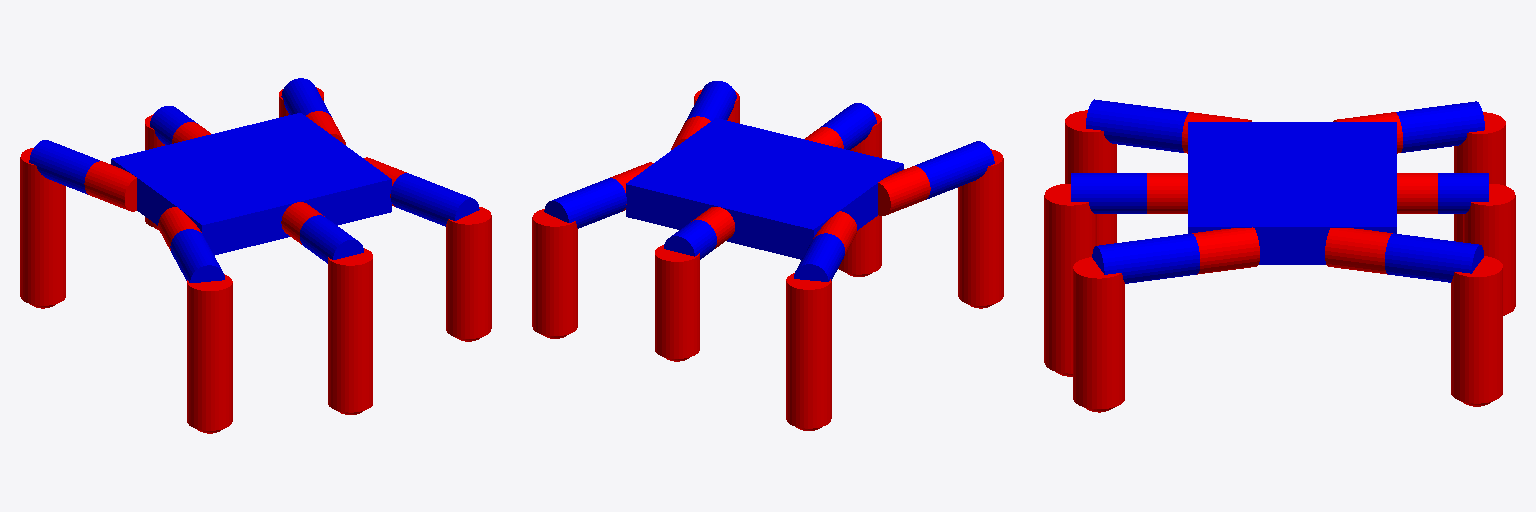
--- What the picture shows (computed from the rendered views, not written in the file) ---
The picture shows the robot from 3 angles, left to right: view 1: azimuth 30°, elevation 25°; view 2: azimuth 150°, elevation 25°; view 3: azimuth 270°, elevation 25°; orthographic projection.
Robot: pexod — 19 links, 18 joints (18 revolute); root link base_link; default pose: all joints at 0.
Visible links, largest first — view 1: base_link, leg_4_3, leg_5_3, leg_0_3, leg_3_3, leg_3_2, leg_0_2, leg_5_2, leg_0_1, leg_4_2, leg_2_2, leg_1_2 (+2 smaller); view 2: base_link, leg_0_3, leg_5_3, leg_2_3, leg_1_3, leg_2_2, leg_5_2, leg_4_3, leg_5_1, leg_0_2, leg_4_2, leg_1_2 (+3 smaller); view 3: base_link, leg_3_3, leg_2_3, leg_4_3, leg_3_2, leg_5_2, leg_1_3, leg_2_2, leg_0_2, leg_5_3, leg_4_2, leg_0_3 (+7 smaller).
Link boxes in pixels (left/top/right/bottom): base_link: left=111, top=113, right=391, bottom=255; leg_4_3: left=328, top=248, right=372, bottom=414; leg_5_3: left=187, top=274, right=232, bottom=433; leg_0_3: left=20, top=148, right=65, bottom=308; leg_3_3: left=446, top=207, right=491, bottom=341; leg_3_2: left=391, top=173, right=479, bottom=226; leg_0_2: left=29, top=140, right=99, bottom=194; leg_5_2: left=170, top=229, right=224, bottom=282; leg_0_1: left=84, top=161, right=136, bottom=211; leg_4_2: left=300, top=215, right=363, bottom=263; leg_2_2: left=281, top=78, right=331, bottom=116; leg_1_2: left=150, top=106, right=197, bottom=144; base_link: left=626, top=118, right=903, bottom=259; leg_0_3: left=786, top=273, right=831, bottom=430; leg_5_3: left=958, top=149, right=1003, bottom=308; leg_2_3: left=532, top=209, right=577, bottom=338; leg_1_3: left=655, top=245, right=699, bottom=361; leg_2_2: left=544, top=178, right=626, bottom=228; leg_5_2: left=915, top=141, right=994, bottom=199; leg_4_3: left=838, top=112, right=881, bottom=276; leg_5_1: left=878, top=166, right=930, bottom=215; leg_0_2: left=794, top=233, right=844, bottom=281; leg_4_2: left=820, top=103, right=876, bottom=149; leg_1_2: left=664, top=220, right=716, bottom=259; base_link: left=1188, top=122, right=1396, bottom=264; leg_3_3: left=1073, top=257, right=1124, bottom=412; leg_2_3: left=1451, top=256, right=1502, bottom=406; leg_4_3: left=1044, top=184, right=1096, bottom=376; leg_3_2: left=1092, top=233, right=1199, bottom=283; leg_5_2: left=1086, top=99, right=1188, bottom=152; leg_1_3: left=1463, top=184, right=1515, bottom=315; leg_2_2: left=1385, top=233, right=1483, bottom=282; leg_0_2: left=1396, top=101, right=1484, bottom=152; leg_5_3: left=1065, top=110, right=1116, bottom=245; leg_4_2: left=1071, top=173, right=1146, bottom=213; leg_0_3: left=1454, top=112, right=1505, bottom=241.
Size in the robot's own frame: 0.3822 by 0.4521 by 0.2104 metres.
Geometry: primitives only (box / cylinder / sphere), no mesh files.

URDF robot description (pexod):
<?xml version="1.0" ?>
<!-- =================================================================================== -->
<!-- |    This document was autogenerated by xacro from pexod.xacro                    | -->
<!-- |    EDITING THIS FILE BY HAND IS NOT RECOMMENDED                                 | -->
<!-- =================================================================================== -->
<robot name="pexod" xmlns:xacro="http://www.ros.org/wiki/xacro">
  <!-- <xacro:include filename="$(find pexod_description)/urdf/pexod_control.xacro" /> -->
  <!-- MATERIALS -->
  <material name="Blue">
    <color rgba="0 0 1 1"/>
  </material>
  <material name="Red">
    <color rgba="1 0 0 1"/>
  </material>
  <material name="Green">
    <color rgba="0 1 0 1"/>
  </material>
  <material name="Yellow">
    <color rgba="1 1 0 1"/>
  </material>
  <material name="LightGrey">
    <color rgba="0.6 0.6 0.6 1.0"/>
  </material>
  <!-- END OF MATERIALS -->
  <!-- XACRO MACROS FOR VISUALS AND COLLISIONS -->
  <!-- END OF XACRO MACROS -->
  <!-- TORSO -->
  <link name="base_link">
    <visual>
      <origin rpy="0 0 0" xyz="0 0 0"/>
      <geometry>
        <box size="0.24 0.2 0.04"/>
      </geometry>
      <material name="Blue"/>
    </visual>
    <collision>
      <origin rpy="0 0 0" xyz="0 0 0"/>
      <geometry>
        <box size="0.24 0.2 0.04"/>
      </geometry>
    </collision>
    <inertial>
      <!-- CENTER OF MASS -->
      <origin rpy="0 0 0" xyz="0 0 0"/>
      <mass value="1.031"/>
      <!-- box inertia: 1/12*m(y^2+z^2), ... -->
      <inertia ixx="0.00357413333333" ixy="0" ixz="0" iyy="0.00508626666667" iyz="0" izz="0.00838546666667"/>
    </inertial>
  </link>
  <!-- XACRO MACRO FOR LEGS LINKS/JOINTS -->
  <!-- END OF LEG LINKS/JOINTS -->
  <joint name="body_leg_2" type="revolute">
    <parent link="base_link"/>
    <child link="leg_2_1"/>
    <limit effort="30.0" lower="-1.57079632679" upper="1.57079632679" velocity="7.0"/>
    <origin rpy="0 0 -0.3" xyz="0.11 0.04 0"/>
    <!-- <xacro:if value="${index == 5 or index == 4 or index == 3}">
                <axis xyz="0 0 1"/>
            </xacro:if>
            <xacro:if value="${index == 2 or index == 1 or index == 0}"> -->
    <axis xyz="0 0 1"/>
    <!-- </xacro:if> -->
    <dynamics damping="0.0"/>
  </joint>
  <link name="leg_2_1">
    <visual>
      <origin rpy="1.57079632679 0 0" xyz="0.01 0.03 0"/>
      <geometry>
        <cylinder length="0.06" radius="0.02"/>
      </geometry>
      <material name="Red"/>
    </visual>
    <collision>
      <origin rpy="1.57079632679 0 0" xyz="0.01 0.03 0"/>
      <geometry>
        <box size="0.02 0.02 0.06"/>
      </geometry>
    </collision>
    <inertial>
      <!-- CENTER OF MASS -->
      <origin rpy="1.57079632679 0 0" xyz="0.01 0.03 0"/>
      <mass value="0.02"/>
      <!-- box inertia: 1/12*m(y^2+z^2), ... -->
      <inertia ixx="6.66666666667e-06" ixy="0" ixz="0" iyy="6.66666666667e-06" iyz="0" izz="1.33333333333e-06"/>
    </inertial>
  </link>
  <joint name="leg_2_1_2" type="revolute">
    <parent link="leg_2_1"/>
    <child link="leg_2_2"/>
    <limit effort="30.0" lower="-0.78539816339" upper="0.78539816339" velocity="7.0"/>
    <origin rpy="0 0 0" xyz="0 0.06 0"/>
    <axis xyz="1 0 0"/>
    <dynamics damping="0.0"/>
  </joint>
  <link name="leg_2_2">
    <visual>
      <origin rpy="1.57079632679 0 0" xyz="0.01 0.0436594370788 0"/>
      <geometry>
        <cylinder length="0.0873188741576" radius="0.02"/>
      </geometry>
      <material name="Blue"/>
    </visual>
    <collision>
      <origin rpy="1.57079632679 0 0" xyz="0.01 0.0436594370788 0"/>
      <geometry>
        <box size="0.02 0.02 0.0873188741576"/>
      </geometry>
    </collision>
    <inertial>
      <!-- CENTER OF MASS -->
      <origin rpy="1.57079632679 0 0" xyz="0.01 0.0436594370788 0"/>
      <mass value="0.184"/>
      <!-- box inertia: 1/12*m(y^2+z^2), ... -->
      <inertia ixx="0.00012304364869" ixy="0" ixz="0" iyy="0.00012304364869" iyz="0" izz="1.22666666667e-05"/>
    </inertial>
  </link>
  <joint name="leg_2_2_3" type="revolute">
    <parent link="leg_2_2"/>
    <child link="leg_2_3"/>
    <limit effort="30.0" lower="-0.78539816339" upper="0.78539816339" velocity="7.0"/>
    <origin rpy="-1.57079632679 0 0" xyz="0 0.0873188741576 0"/>
    <axis xyz="-1 0 0"/>
    <dynamics damping="0.0"/>
  </joint>
  <link name="leg_2_3">
    <visual>
      <origin rpy="1.57079632679 0 0" xyz="0.0125 0.066842162869 0"/>
      <geometry>
        <cylinder length="0.133684325738" radius="0.025"/>
      </geometry>
      <material name="Red"/>
    </visual>
    <visual>
      <origin rpy="1.57079632679 0 0" xyz="0.0125 0.121184325738 0"/>
      <geometry>
        <sphere radius="0.025"/>
      </geometry>
      <material name="Red"/>
    </visual>
    <collision>
      <origin rpy="1.57079632679 0 0" xyz="0.0125 0.066842162869 0"/>
      <geometry>
        <box size="0.025 0.025 0.133684325738"/>
      </geometry>
    </collision>
    <collision>
      <origin rpy="1.57079632679 0 0" xyz="0.0125 0.121184325738 0"/>
      <geometry>
        <sphere radius="0.025"/>
      </geometry>
      <material name="Red"/>
    </collision>
    <inertial>
      <!-- CENTER OF MASS -->
      <origin rpy="1.57079632679 0 0" xyz="0.0125 0.066842162869 0"/>
      <mass value="0.04"/>
      <!-- box inertia: 1/12*m(y^2+z^2), ... -->
      <inertia ixx="6.16549964934e-05" ixy="0" ixz="0" iyy="6.16549964934e-05" iyz="0" izz="4.16666666667e-06"/>
    </inertial>
  </link>
  <joint name="body_leg_3" type="revolute">
    <parent link="base_link"/>
    <child link="leg_3_1"/>
    <limit effort="30.0" lower="-1.57079632679" upper="1.57079632679" velocity="7.0"/>
    <origin rpy="0 0 0.3" xyz="0.11 -0.04 0"/>
    <!-- <xacro:if value="${index == 5 or index == 4 or index == 3}">
                <axis xyz="0 0 1"/>
            </xacro:if>
            <xacro:if value="${index == 2 or index == 1 or index == 0}"> -->
    <axis xyz="0 0 1"/>
    <!-- </xacro:if> -->
    <dynamics damping="0.0"/>
  </joint>
  <link name="leg_3_1">
    <visual>
      <origin rpy="1.57079632679 0 0" xyz="0.01 -0.03 0"/>
      <geometry>
        <cylinder length="0.06" radius="0.02"/>
      </geometry>
      <material name="Red"/>
    </visual>
    <collision>
      <origin rpy="1.57079632679 0 0" xyz="0.01 -0.03 0"/>
      <geometry>
        <box size="0.02 0.02 0.06"/>
      </geometry>
    </collision>
    <inertial>
      <!-- CENTER OF MASS -->
      <origin rpy="1.57079632679 0 0" xyz="0.01 -0.03 0"/>
      <mass value="0.02"/>
      <!-- box inertia: 1/12*m(y^2+z^2), ... -->
      <inertia ixx="6.66666666667e-06" ixy="0" ixz="0" iyy="6.66666666667e-06" iyz="0" izz="1.33333333333e-06"/>
    </inertial>
  </link>
  <joint name="leg_3_1_2" type="revolute">
    <parent link="leg_3_1"/>
    <child link="leg_3_2"/>
    <limit effort="30.0" lower="-0.78539816339" upper="0.78539816339" velocity="7.0"/>
    <origin rpy="0 0 0" xyz="0 -0.06 0"/>
    <axis xyz="-1 0 0"/>
    <dynamics damping="0.0"/>
  </joint>
  <link name="leg_3_2">
    <visual>
      <origin rpy="1.57079632679 0 0" xyz="0.01 -0.0480970000703 0"/>
      <geometry>
        <cylinder length="0.0961940001406" radius="0.02"/>
      </geometry>
      <material name="Blue"/>
    </visual>
    <collision>
      <origin rpy="1.57079632679 0 0" xyz="0.01 -0.0480970000703 0"/>
      <geometry>
        <box size="0.02 0.02 0.0961940001406"/>
      </geometry>
    </collision>
    <inertial>
      <!-- CENTER OF MASS -->
      <origin rpy="1.57079632679 0 0" xyz="0.01 -0.0480970000703 0"/>
      <mass value="0.184"/>
      <!-- box inertia: 1/12*m(y^2+z^2), ... -->
      <inertia ixx="0.000148017046833" ixy="0" ixz="0" iyy="0.000148017046833" iyz="0" izz="1.22666666667e-05"/>
    </inertial>
  </link>
  <joint name="leg_3_2_3" type="revolute">
    <parent link="leg_3_2"/>
    <child link="leg_3_3"/>
    <limit effort="30.0" lower="-0.78539816339" upper="0.78539816339" velocity="7.0"/>
    <origin rpy="1.57079632679 0 0" xyz="0 -0.0961940001406 0"/>
    <axis xyz="1 0 0"/>
    <dynamics damping="0.0"/>
  </joint>
  <link name="leg_3_3">
    <visual>
      <origin rpy="1.57079632679 0 0" xyz="0.0125 -0.069245912399 0"/>
      <geometry>
        <cylinder length="0.138491824798" radius="0.025"/>
      </geometry>
      <material name="Red"/>
    </visual>
    <visual>
      <origin rpy="1.57079632679 0 0" xyz="0.0125 -0.125991824798 0"/>
      <geometry>
        <sphere radius="0.025"/>
      </geometry>
      <material name="Red"/>
    </visual>
    <collision>
      <origin rpy="1.57079632679 0 0" xyz="0.0125 -0.069245912399 0"/>
      <geometry>
        <box size="0.025 0.025 0.138491824798"/>
      </geometry>
    </collision>
    <collision>
      <origin rpy="1.57079632679 0 0" xyz="0.0125 -0.125991824798 0"/>
      <geometry>
        <sphere radius="0.025"/>
      </geometry>
      <material name="Red"/>
    </collision>
    <inertial>
      <!-- CENTER OF MASS -->
      <origin rpy="1.57079632679 0 0" xyz="0.0125 -0.069245912399 0"/>
      <mass value="0.04"/>
      <!-- box inertia: 1/12*m(y^2+z^2), ... -->
      <inertia ixx="6.60166184529e-05" ixy="0" ixz="0" iyy="6.60166184529e-05" iyz="0" izz="4.16666666667e-06"/>
    </inertial>
  </link>
  <joint name="body_leg_0" type="revolute">
    <parent link="base_link"/>
    <child link="leg_0_1"/>
    <limit effort="30.0" lower="-1.57079632679" upper="1.57079632679" velocity="7.0"/>
    <origin rpy="0 0 0.3" xyz="-0.13 0.04 0"/>
    <!-- <xacro:if value="${index == 5 or index == 4 or index == 3}">
                <axis xyz="0 0 1"/>
            </xacro:if>
            <xacro:if value="${index == 2 or index == 1 or index == 0}"> -->
    <axis xyz="0 0 1"/>
    <!-- </xacro:if> -->
    <dynamics damping="0.0"/>
  </joint>
  <link name="leg_0_1">
    <visual>
      <origin rpy="1.57079632679 0 0" xyz="0.01 0.03 0"/>
      <geometry>
        <cylinder length="0.06" radius="0.02"/>
      </geometry>
      <material name="Red"/>
    </visual>
    <collision>
      <origin rpy="1.57079632679 0 0" xyz="0.01 0.03 0"/>
      <geometry>
        <box size="0.02 0.02 0.06"/>
      </geometry>
    </collision>
    <inertial>
      <!-- CENTER OF MASS -->
      <origin rpy="1.57079632679 0 0" xyz="0.01 0.03 0"/>
      <mass value="0.02"/>
      <!-- box inertia: 1/12*m(y^2+z^2), ... -->
      <inertia ixx="6.66666666667e-06" ixy="0" ixz="0" iyy="6.66666666667e-06" iyz="0" izz="1.33333333333e-06"/>
    </inertial>
  </link>
  <joint name="leg_0_1_2" type="revolute">
    <parent link="leg_0_1"/>
    <child link="leg_0_2"/>
    <limit effort="30.0" lower="-0.78539816339" upper="0.78539816339" velocity="7.0"/>
    <origin rpy="0 0 0" xyz="0 0.06 0"/>
    <axis xyz="1 0 0"/>
    <dynamics damping="0.0"/>
  </joint>
  <link name="leg_0_2">
    <visual>
      <origin rpy="1.57079632679 0 0" xyz="0.01 0.0412112210949 0"/>
      <geometry>
        <cylinder length="0.0824224421899" radius="0.02"/>
      </geometry>
      <material name="Blue"/>
    </visual>
    <collision>
      <origin rpy="1.57079632679 0 0" xyz="0.01 0.0412112210949 0"/>
      <geometry>
        <box size="0.02 0.02 0.0824224421899"/>
      </geometry>
    </collision>
    <inertial>
      <!-- CENTER OF MASS -->
      <origin rpy="1.57079632679 0 0" xyz="0.01 0.0412112210949 0"/>
      <mass value="0.184"/>
      <!-- box inertia: 1/12*m(y^2+z^2), ... -->
      <inertia ixx="0.000110299704307" ixy="0" ixz="0" iyy="0.000110299704307" iyz="0" izz="1.22666666667e-05"/>
    </inertial>
  </link>
  <joint name="leg_0_2_3" type="revolute">
    <parent link="leg_0_2"/>
    <child link="leg_0_3"/>
    <limit effort="30.0" lower="-0.78539816339" upper="0.78539816339" velocity="7.0"/>
    <origin rpy="-1.57079632679 0 0" xyz="0 0.0824224421899 0"/>
    <axis xyz="-1 0 0"/>
    <dynamics damping="0.0"/>
  </joint>
  <link name="leg_0_3">
    <visual>
      <origin rpy="1.57079632679 0 0" xyz="0.0125 0.084639465031 0"/>
      <geometry>
        <cylinder length="0.169278930062" radius="0.025"/>
      </geometry>
      <material name="Red"/>
    </visual>
    <visual>
      <origin rpy="1.57079632679 0 0" xyz="0.0125 0.156778930062 0"/>
      <geometry>
        <sphere radius="0.025"/>
      </geometry>
      <material name="Red"/>
    </visual>
    <collision>
      <origin rpy="1.57079632679 0 0" xyz="0.0125 0.084639465031 0"/>
      <geometry>
        <box size="0.025 0.025 0.169278930062"/>
      </geometry>
    </collision>
    <collision>
      <origin rpy="1.57079632679 0 0" xyz="0.0125 0.156778930062 0"/>
      <geometry>
        <sphere radius="0.025"/>
      </geometry>
      <material name="Red"/>
    </collision>
    <inertial>
      <!-- CENTER OF MASS -->
      <origin rpy="1.57079632679 0 0" xyz="0.0125 0.084639465031 0"/>
      <mass value="0.04"/>
      <!-- box inertia: 1/12*m(y^2+z^2), ... -->
      <inertia ixx="9.76011872098e-05" ixy="0" ixz="0" iyy="9.76011872098e-05" iyz="0" izz="4.16666666667e-06"/>
    </inertial>
  </link>
  <joint name="body_leg_5" type="revolute">
    <parent link="base_link"/>
    <child link="leg_5_1"/>
    <limit effort="30.0" lower="-1.57079632679" upper="1.57079632679" velocity="7.0"/>
    <origin rpy="0 0 -0.3" xyz="-0.13 -0.04 0"/>
    <!-- <xacro:if value="${index == 5 or index == 4 or index == 3}">
                <axis xyz="0 0 1"/>
            </xacro:if>
            <xacro:if value="${index == 2 or index == 1 or index == 0}"> -->
    <axis xyz="0 0 1"/>
    <!-- </xacro:if> -->
    <dynamics damping="0.0"/>
  </joint>
  <link name="leg_5_1">
    <visual>
      <origin rpy="1.57079632679 0 0" xyz="0.01 -0.03 0"/>
      <geometry>
        <cylinder length="0.06" radius="0.02"/>
      </geometry>
      <material name="Red"/>
    </visual>
    <collision>
      <origin rpy="1.57079632679 0 0" xyz="0.01 -0.03 0"/>
      <geometry>
        <box size="0.02 0.02 0.06"/>
      </geometry>
    </collision>
    <inertial>
      <!-- CENTER OF MASS -->
      <origin rpy="1.57079632679 0 0" xyz="0.01 -0.03 0"/>
      <mass value="0.02"/>
      <!-- box inertia: 1/12*m(y^2+z^2), ... -->
      <inertia ixx="6.66666666667e-06" ixy="0" ixz="0" iyy="6.66666666667e-06" iyz="0" izz="1.33333333333e-06"/>
    </inertial>
  </link>
  <joint name="leg_5_1_2" type="revolute">
    <parent link="leg_5_1"/>
    <child link="leg_5_2"/>
    <limit effort="30.0" lower="-0.78539816339" upper="0.78539816339" velocity="7.0"/>
    <origin rpy="0 0 0" xyz="0 -0.06 0"/>
    <axis xyz="-1 0 0"/>
    <dynamics damping="0.0"/>
  </joint>
  <link name="leg_5_2">
    <visual>
      <origin rpy="1.57079632679 0 0" xyz="0.01 -0.0483177649542 0"/>
      <geometry>
        <cylinder length="0.0966355299083" radius="0.02"/>
      </geometry>
      <material name="Blue"/>
    </visual>
    <collision>
      <origin rpy="1.57079632679 0 0" xyz="0.01 -0.0483177649542 0"/>
      <geometry>
        <box size="0.02 0.02 0.0966355299083"/>
      </geometry>
    </collision>
    <inertial>
      <!-- CENTER OF MASS -->
      <origin rpy="1.57079632679 0 0" xyz="0.01 -0.0483177649542 0"/>
      <mass value="0.184"/>
      <!-- box inertia: 1/12*m(y^2+z^2), ... -->
      <inertia ixx="0.00014932252649" ixy="0" ixz="0" iyy="0.00014932252649" iyz="0" izz="1.22666666667e-05"/>
    </inertial>
  </link>
  <joint name="leg_5_2_3" type="revolute">
    <parent link="leg_5_2"/>
    <child link="leg_5_3"/>
    <limit effort="30.0" lower="-0.78539816339" upper="0.78539816339" velocity="7.0"/>
    <origin rpy="1.57079632679 0 0" xyz="0 -0.0966355299083 0"/>
    <axis xyz="1 0 0"/>
    <dynamics damping="0.0"/>
  </joint>
  <link name="leg_5_3">
    <visual>
      <origin rpy="1.57079632679 0 0" xyz="0.0125 -0.0845588411455 0"/>
      <geometry>
        <cylinder length="0.169117682291" radius="0.025"/>
      </geometry>
      <material name="Red"/>
    </visual>
    <visual>
      <origin rpy="1.57079632679 0 0" xyz="0.0125 -0.156617682291 0"/>
      <geometry>
        <sphere radius="0.025"/>
      </geometry>
      <material name="Red"/>
    </visual>
    <collision>
      <origin rpy="1.57079632679 0 0" xyz="0.0125 -0.0845588411455 0"/>
      <geometry>
        <box size="0.025 0.025 0.169117682291"/>
      </geometry>
    </collision>
    <collision>
      <origin rpy="1.57079632679 0 0" xyz="0.0125 -0.156617682291 0"/>
      <geometry>
        <sphere radius="0.025"/>
      </geometry>
      <material name="Red"/>
    </collision>
    <inertial>
      <!-- CENTER OF MASS -->
      <origin rpy="1.57079632679 0 0" xyz="0.0125 -0.0845588411455 0"/>
      <mass value="0.04"/>
      <!-- box inertia: 1/12*m(y^2+z^2), ... -->
      <inertia ixx="9.74193015449e-05" ixy="0" ixz="0" iyy="9.74193015449e-05" iyz="0" izz="4.16666666667e-06"/>
    </inertial>
  </link>
  <joint name="body_leg_1" type="revolute">
    <parent link="base_link"/>
    <child link="leg_1_1"/>
    <limit effort="30.0" lower="-1.57079632679" upper="1.57079632679" velocity="7.0"/>
    <origin rpy="0 0 0" xyz="-0.01 0.08 0"/>
    <!-- <xacro:if value="${index == 5 or index == 4 or index == 3}">
                <axis xyz="0 0 1"/>
            </xacro:if>
            <xacro:if value="${index == 2 or index == 1 or index == 0}"> -->
    <axis xyz="0 0 1"/>
    <!-- </xacro:if> -->
    <dynamics damping="0.0"/>
  </joint>
  <link name="leg_1_1">
    <visual>
      <origin rpy="1.57079632679 0 0" xyz="0.01 0.03 0"/>
      <geometry>
        <cylinder length="0.06" radius="0.02"/>
      </geometry>
      <material name="Red"/>
    </visual>
    <collision>
      <origin rpy="1.57079632679 0 0" xyz="0.01 0.03 0"/>
      <geometry>
        <box size="0.02 0.02 0.06"/>
      </geometry>
    </collision>
    <inertial>
      <!-- CENTER OF MASS -->
      <origin rpy="1.57079632679 0 0" xyz="0.01 0.03 0"/>
      <mass value="0.02"/>
      <!-- box inertia: 1/12*m(y^2+z^2), ... -->
      <inertia ixx="6.66666666667e-06" ixy="0" ixz="0" iyy="6.66666666667e-06" iyz="0" izz="1.33333333333e-06"/>
    </inertial>
  </link>
  <joint name="leg_1_1_2" type="revolute">
    <parent link="leg_1_1"/>
    <child link="leg_1_2"/>
    <limit effort="30.0" lower="-0.78539816339" upper="0.78539816339" velocity="7.0"/>
    <origin rpy="0 0 0" xyz="0 0.06 0"/>
    <axis xyz="1 0 0"/>
    <dynamics damping="0.0"/>
  </joint>
  <link name="leg_1_2">
    <visual>
      <origin rpy="1.57079632679 0 0" xyz="0.01 0.0244936497656 0"/>
      <geometry>
        <cylinder length="0.0489872995312" radius="0.02"/>
      </geometry>
      <material name="Blue"/>
    </visual>
    <collision>
      <origin rpy="1.57079632679 0 0" xyz="0.01 0.0244936497656 0"/>
      <geometry>
        <box size="0.02 0.02 0.0489872995312"/>
      </geometry>
    </collision>
    <inertial>
      <!-- CENTER OF MASS -->
      <origin rpy="1.57079632679 0 0" xyz="0.01 0.0244936497656 0"/>
      <mass value="0.184"/>
      <!-- box inertia: 1/12*m(y^2+z^2), ... -->
      <inertia ixx="4.29295845688e-05" ixy="0" ixz="0" iyy="4.29295845688e-05" iyz="0" izz="1.22666666667e-05"/>
    </inertial>
  </link>
  <joint name="leg_1_2_3" type="revolute">
    <parent link="leg_1_2"/>
    <child link="leg_1_3"/>
    <limit effort="30.0" lower="-0.78539816339" upper="0.78539816339" velocity="7.0"/>
    <origin rpy="-1.57079632679 0 0" xyz="0 0.0489872995312 0"/>
    <axis xyz="-1 0 0"/>
    <dynamics damping="0.0"/>
  </joint>
  <link name="leg_1_3">
    <visual>
      <origin rpy="1.57079632679 0 0" xyz="0.0125 0.059211967536 0"/>
      <geometry>
        <cylinder length="0.118423935072" radius="0.025"/>
      </geometry>
      <material name="Red"/>
    </visual>
    <visual>
      <origin rpy="1.57079632679 0 0" xyz="0.0125 0.105923935072 0"/>
      <geometry>
        <sphere radius="0.025"/>
      </geometry>
      <material name="Red"/>
    </visual>
    <collision>
      <origin rpy="1.57079632679 0 0" xyz="0.0125 0.059211967536 0"/>
      <geometry>
        <box size="0.025 0.025 0.118423935072"/>
      </geometry>
    </collision>
    <collision>
      <origin rpy="1.57079632679 0 0" xyz="0.0125 0.105923935072 0"/>
      <geometry>
        <sphere radius="0.025"/>
      </geometry>
      <material name="Red"/>
    </collision>
    <inertial>
      <!-- CENTER OF MASS -->
      <origin rpy="1.57079632679 0 0" xyz="0.0125 0.059211967536 0"/>
      <mass value="0.04"/>
      <!-- box inertia: 1/12*m(y^2+z^2), ... -->
      <inertia ixx="4.88307613265e-05" ixy="0" ixz="0" iyy="4.88307613265e-05" iyz="0" izz="4.16666666667e-06"/>
    </inertial>
  </link>
  <joint name="body_leg_4" type="revolute">
    <parent link="base_link"/>
    <child link="leg_4_1"/>
    <limit effort="30.0" lower="-1.57079632679" upper="1.57079632679" velocity="7.0"/>
    <origin rpy="0 0 0" xyz="-0.01 -0.08 0"/>
    <!-- <xacro:if value="${index == 5 or index == 4 or index == 3}">
                <axis xyz="0 0 1"/>
            </xacro:if>
            <xacro:if value="${index == 2 or index == 1 or index == 0}"> -->
    <axis xyz="0 0 1"/>
    <!-- </xacro:if> -->
    <dynamics damping="0.0"/>
  </joint>
  <link name="leg_4_1">
    <visual>
      <origin rpy="1.57079632679 0 0" xyz="0.01 -0.03 0"/>
      <geometry>
        <cylinder length="0.06" radius="0.02"/>
      </geometry>
      <material name="Red"/>
    </visual>
    <collision>
      <origin rpy="1.57079632679 0 0" xyz="0.01 -0.03 0"/>
      <geometry>
        <box size="0.02 0.02 0.06"/>
      </geometry>
    </collision>
    <inertial>
      <!-- CENTER OF MASS -->
      <origin rpy="1.57079632679 0 0" xyz="0.01 -0.03 0"/>
      <mass value="0.02"/>
      <!-- box inertia: 1/12*m(y^2+z^2), ... -->
      <inertia ixx="6.66666666667e-06" ixy="0" ixz="0" iyy="6.66666666667e-06" iyz="0" izz="1.33333333333e-06"/>
    </inertial>
  </link>
  <joint name="leg_4_1_2" type="revolute">
    <parent link="leg_4_1"/>
    <child link="leg_4_2"/>
    <limit effort="30.0" lower="-0.78539816339" upper="0.78539816339" velocity="7.0"/>
    <origin rpy="0 0 0" xyz="0 -0.06 0"/>
    <axis xyz="-1 0 0"/>
    <dynamics damping="0.0"/>
  </joint>
  <link name="leg_4_2">
    <visual>
      <origin rpy="1.57079632679 0 0" xyz="0.01 -0.036539594058 0"/>
      <geometry>
        <cylinder length="0.0730791881159" radius="0.02"/>
      </geometry>
      <material name="Blue"/>
    </visual>
    <collision>
      <origin rpy="1.57079632679 0 0" xyz="0.01 -0.036539594058 0"/>
      <geometry>
        <box size="0.02 0.02 0.0730791881159"/>
      </geometry>
    </collision>
    <inertial>
      <!-- CENTER OF MASS -->
      <origin rpy="1.57079632679 0 0" xyz="0.01 -0.036539594058 0"/>
      <mass value="0.184"/>
      <!-- box inertia: 1/12*m(y^2+z^2), ... -->
      <inertia ixx="8.80220386137e-05" ixy="0" ixz="0" iyy="8.80220386137e-05" iyz="0" izz="1.22666666667e-05"/>
    </inertial>
  </link>
  <joint name="leg_4_2_3" type="revolute">
    <parent link="leg_4_2"/>
    <child link="leg_4_3"/>
    <limit effort="30.0" lower="-0.78539816339" upper="0.78539816339" velocity="7.0"/>
    <origin rpy="1.57079632679 0 0" xyz="0 -0.0730791881159 0"/>
    <axis xyz="1 0 0"/>
    <dynamics damping="0.0"/>
  </joint>
  <link name="leg_4_3">
    <visual>
      <origin rpy="1.57079632679 0 0" xyz="0.0125 -0.088933544636 0"/>
      <geometry>
        <cylinder length="0.177867089272" radius="0.025"/>
      </geometry>
      <material name="Red"/>
    </visual>
    <visual>
      <origin rpy="1.57079632679 0 0" xyz="0.0125 -0.165367089272 0"/>
      <geometry>
        <sphere radius="0.025"/>
      </geometry>
      <material name="Red"/>
    </visual>
    <collision>
      <origin rpy="1.57079632679 0 0" xyz="0.0125 -0.088933544636 0"/>
      <geometry>
        <box size="0.025 0.025 0.177867089272"/>
      </geometry>
    </collision>
    <collision>
      <origin rpy="1.57079632679 0 0" xyz="0.0125 -0.165367089272 0"/>
      <geometry>
        <sphere radius="0.025"/>
      </geometry>
      <material name="Red"/>
    </collision>
    <inertial>
      <!-- CENTER OF MASS -->
      <origin rpy="1.57079632679 0 0" xyz="0.0125 -0.088933544636 0"/>
      <mass value="0.04"/>
      <!-- box inertia: 1/12*m(y^2+z^2), ... -->
      <inertia ixx="0.00010753900482" ixy="0" ixz="0" iyy="0.00010753900482" iyz="0" izz="4.16666666667e-06"/>
    </inertial>
  </link>
  <!-- END OF LEG LINKS/JOINTS -->
</robot>
